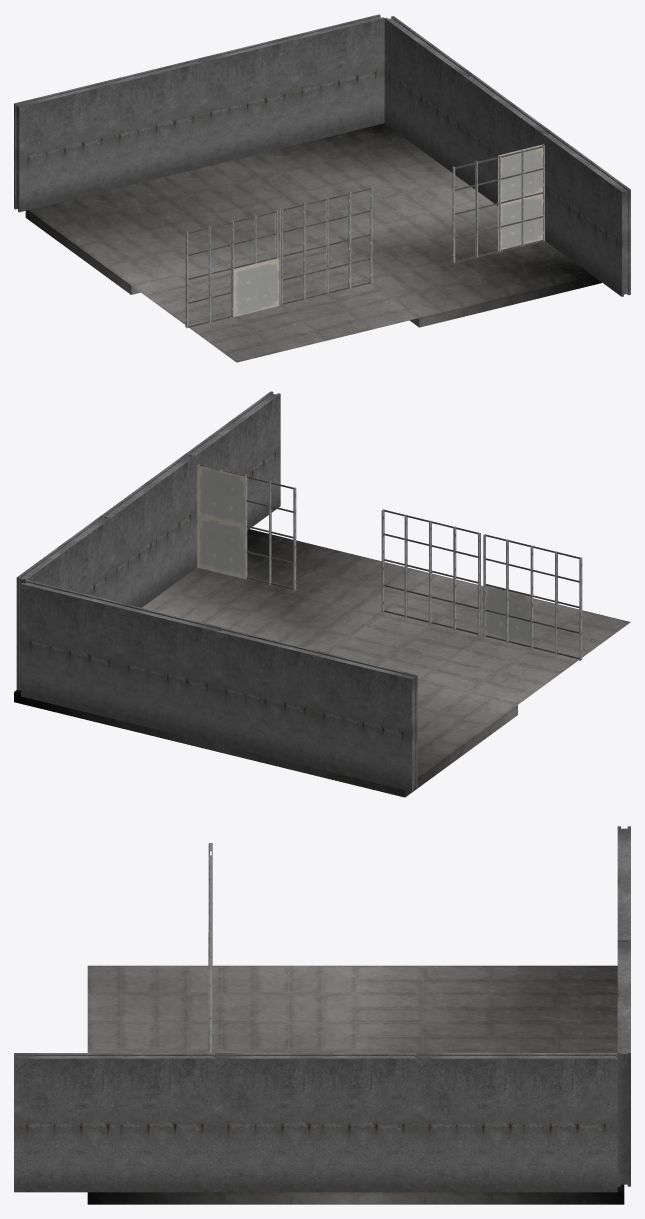
Rendered from BuildingMap_0_3.gltf.
The picture shows the model from 3 angles, top to bottom: view 1: azimuth 30°, elevation 25°; view 2: azimuth 150°, elevation 25°; view 3: azimuth 270°, elevation 25°; orthographic projection. The views are drawn at different scales.
Visible parts, largest first — view 1: SM_BP_WallCon_8x5, SM_BP_WallCon_8x4, SM_Floors_Thick_134, SM_Floors_Thick_139, SM_Floors_Thick_135, SM_Floors_Plain_28, SM_Building_Pieces_WallConcrete6m3, SM_Building_Pieces_WallConcrete6m5, SM_Building_Pieces_WallConcrete6m4, SM_Wall_Inside38, SM_Wall_Inside41, SM_Interior_1_Drt_Wall76 (+3 smaller); view 2: SM_BP_WallCon_8x5, SM_BP_WallCon_8x4, SM_Floors_Thick_139, SM_Floors_Plain_28, SM_Building_Pieces_WallConcrete6m4, SM_Floors_Thick_134, SM_Building_Pieces_WallConcrete6m3, SM_Building_Pieces_WallConcrete6m5, SM_Wall_Inside38, SM_Wall_Inside39, SM_Interior_1_Drt_Wall87, SM_Interior_1_Drt_Wall93 (+3 smaller); view 3: SM_Building_Pieces_WallConcrete6m5, SM_Building_Pieces_WallConcrete6m3, SM_Building_Pieces_WallConcrete6m4, SM_Floors_Plain_28, SM_Floors_Thick_134, SM_Floors_Thick_135, SM_Floors_Thick_139, SM_BP_WallCon_8x4, SM_BP_WallCon_8x5, SM_Wall_Inside38.
Part boxes in pixels (x1,y1,x2,y2): SM_BP_WallCon_8x5: (14, 59, 201, 212); SM_BP_WallCon_8x4: (197, 14, 384, 167); SM_Floors_Thick_134: (25, 165, 313, 294); SM_Floors_Thick_139: (314, 198, 601, 327); SM_Floors_Thick_135: (211, 123, 486, 240); SM_Floors_Plain_28: (131, 241, 418, 362); SM_Building_Pieces_WallConcrete6m3: (542, 132, 630, 296); SM_Building_Pieces_WallConcrete6m5: (384, 16, 472, 180); SM_Building_Pieces_WallConcrete6m4: (463, 74, 551, 205); SM_Wall_Inside38: (280, 186, 372, 304); SM_Wall_Inside41: (452, 144, 544, 262); SM_Interior_1_Drt_Wall76: (233, 258, 279, 316); SM_BP_WallCon_8x5: (216, 627, 417, 791); SM_BP_WallCon_8x4: (21, 579, 221, 743); SM_Floors_Thick_139: (142, 529, 434, 652); SM_Floors_Plain_28: (328, 574, 630, 704); SM_Building_Pieces_WallConcrete6m4: (102, 453, 195, 607); SM_Floors_Thick_134: (209, 680, 517, 797); SM_Building_Pieces_WallConcrete6m3: (186, 391, 280, 567); SM_Building_Pieces_WallConcrete6m5: (16, 515, 111, 690); SM_Wall_Inside38: (381, 509, 480, 636); SM_Wall_Inside39: (483, 534, 582, 660); SM_Interior_1_Drt_Wall87: (197, 465, 246, 527); SM_Interior_1_Drt_Wall93: (197, 516, 246, 579); SM_Building_Pieces_WallConcrete6m5: (416, 1053, 617, 1192); SM_Building_Pieces_WallConcrete6m3: (14, 1053, 215, 1192); SM_Building_Pieces_WallConcrete6m4: (215, 1053, 416, 1192); SM_Floors_Plain_28: (87, 965, 355, 1052); SM_Floors_Thick_134: (356, 965, 617, 1052); SM_Floors_Thick_135: (356, 1184, 624, 1204); SM_Floors_Thick_139: (87, 1192, 355, 1204); SM_BP_WallCon_8x4: (617, 939, 630, 1186); SM_BP_WallCon_8x5: (617, 826, 630, 941); SM_Wall_Inside38: (208, 901, 212, 1021).
Bounding box in the file's own units: 16.4 × 4.8 × 18.4.
7 materials, 7 textured.
